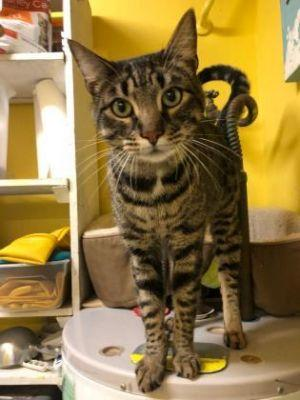bengal: (63, 4, 219, 172)
